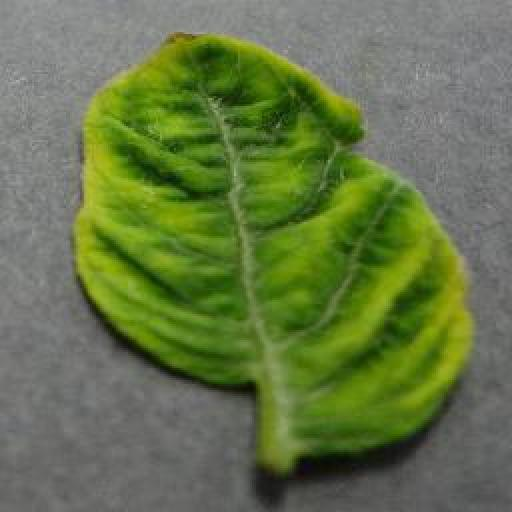disease_tomato: (76, 26, 476, 452)
